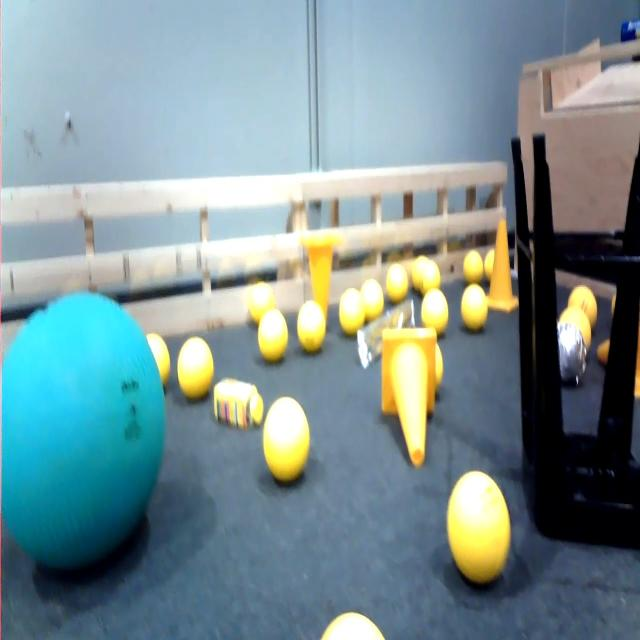fuel: (444, 461, 516, 590), (261, 385, 316, 490), (175, 318, 218, 405), (318, 601, 391, 640), (254, 304, 290, 368), (294, 296, 330, 358), (457, 280, 493, 341), (419, 282, 454, 340), (144, 323, 174, 389), (334, 284, 367, 342), (560, 304, 594, 357), (566, 283, 604, 326), (244, 273, 277, 322), (383, 256, 412, 306), (360, 272, 388, 318), (408, 242, 432, 288), (458, 246, 484, 288), (419, 253, 442, 292), (483, 242, 498, 281)
